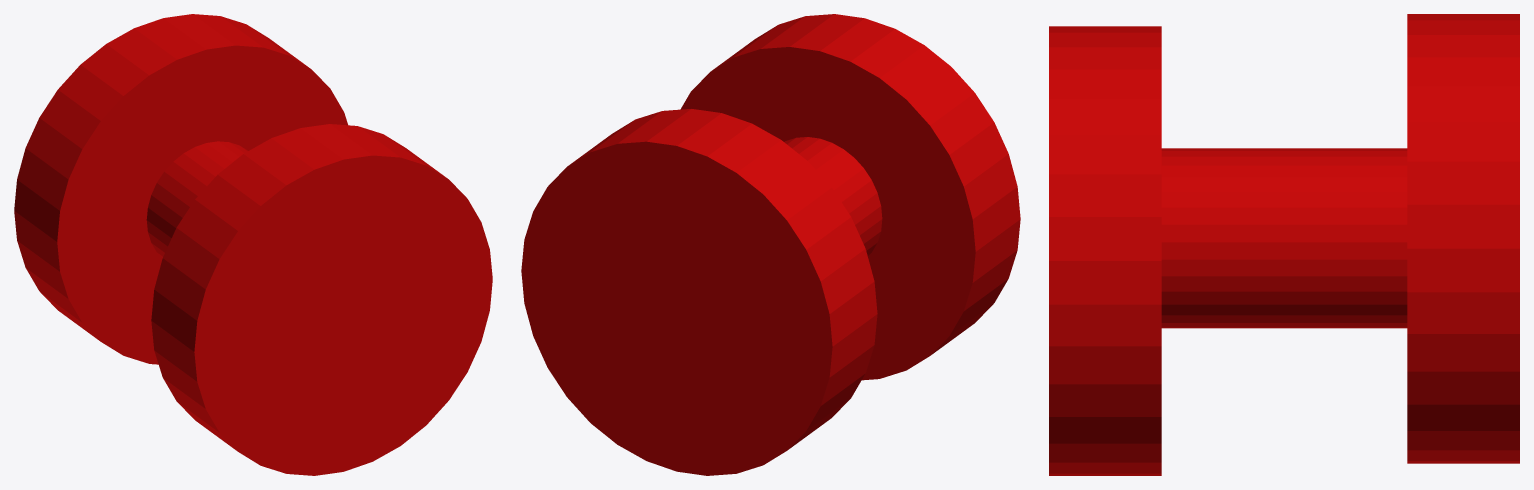
The model's file is knob.obj.
3 views of the same model, side by side, from view 1: azimuth 30°, elevation 25°; view 2: azimuth 150°, elevation 25°; view 3: azimuth 270°, elevation 25° (orthographic). The views are drawn at different scales.
Visible parts, largest first — view 1: knob_Cylinder.001; view 2: knob_Cylinder.001; view 3: knob_Cylinder.001.
Boxes of the visible parts, bbox=[...] form: knob_Cylinder.001: bbox=[14, 14, 492, 475]; knob_Cylinder.001: bbox=[521, 14, 1020, 475]; knob_Cylinder.001: bbox=[1049, 14, 1519, 475].
Bounding box in the file's own units: 0.2 × 0.2061 × 0.2093.
